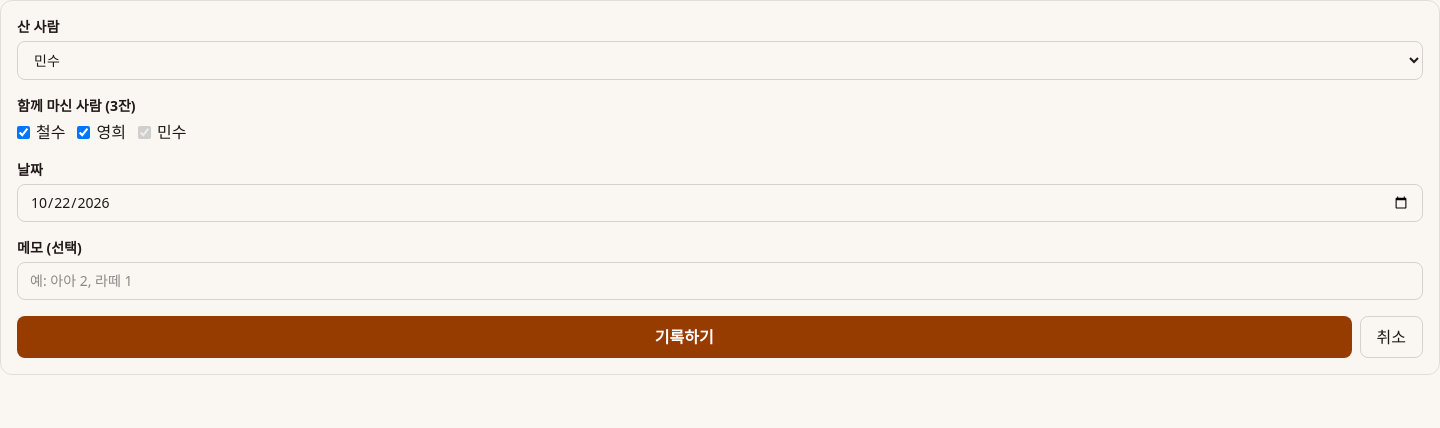
Scenario: PurchaseForm › blocks future dates
Type "2026-10-23" into the date field labelled "날짜" at [720, 203], box [17, 184, 1423, 222]
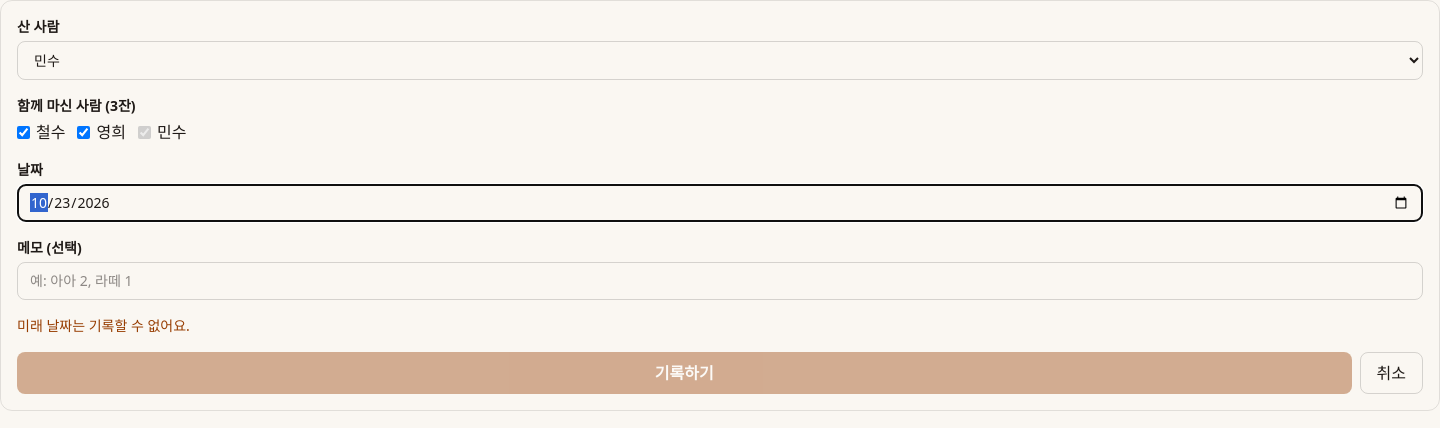
Now the button "기록하기" is disabled, box [17, 352, 1352, 394]
Now the text "미래 날짜는 기록할 수 없어요." is shown, box [17, 316, 190, 335]
